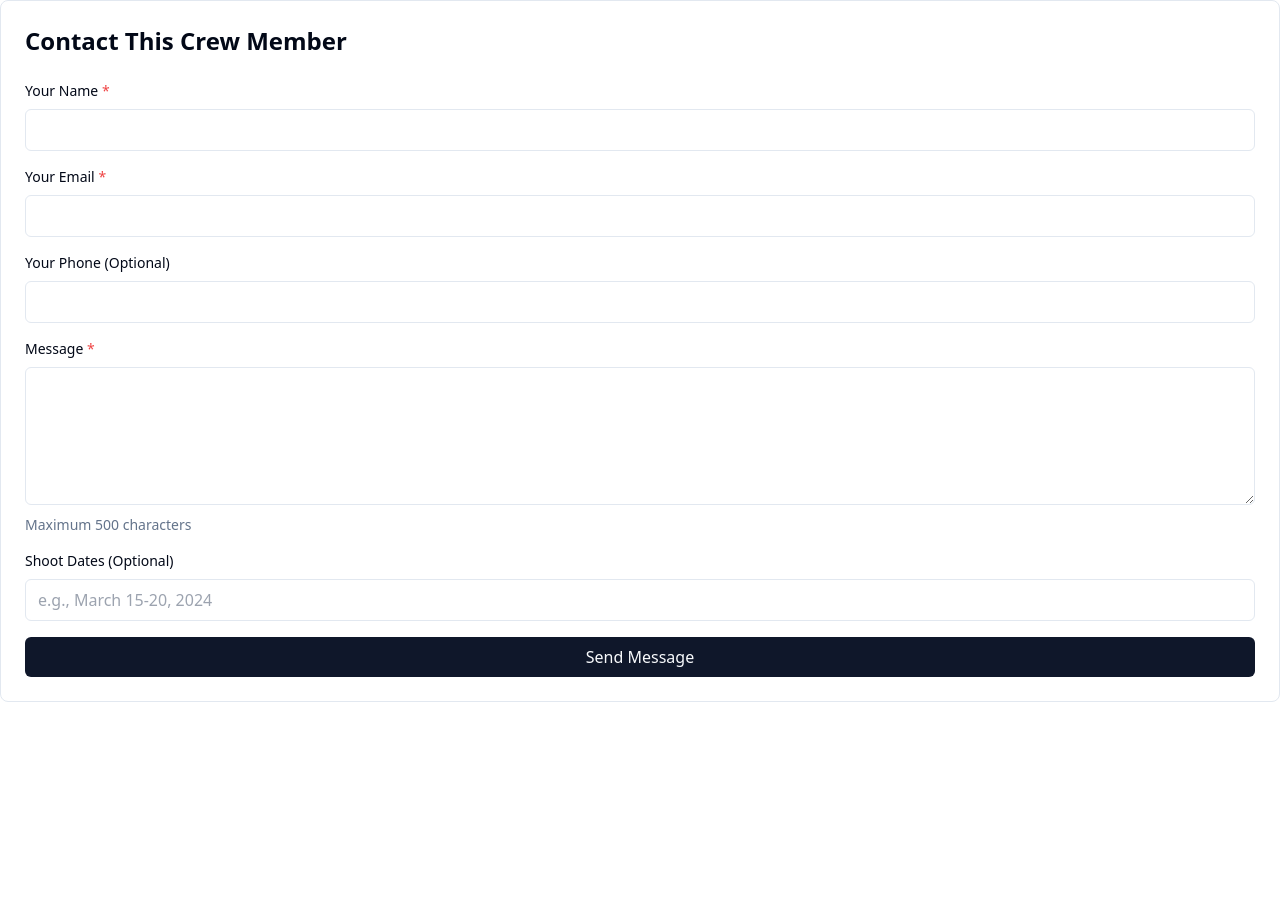
Scenario: ContactForm › should show validation errors for required fields
The width and height of the screenshot is (1280, 900).
Click the button "Send Message": coordinates (640, 657) [25,637,1255,677]
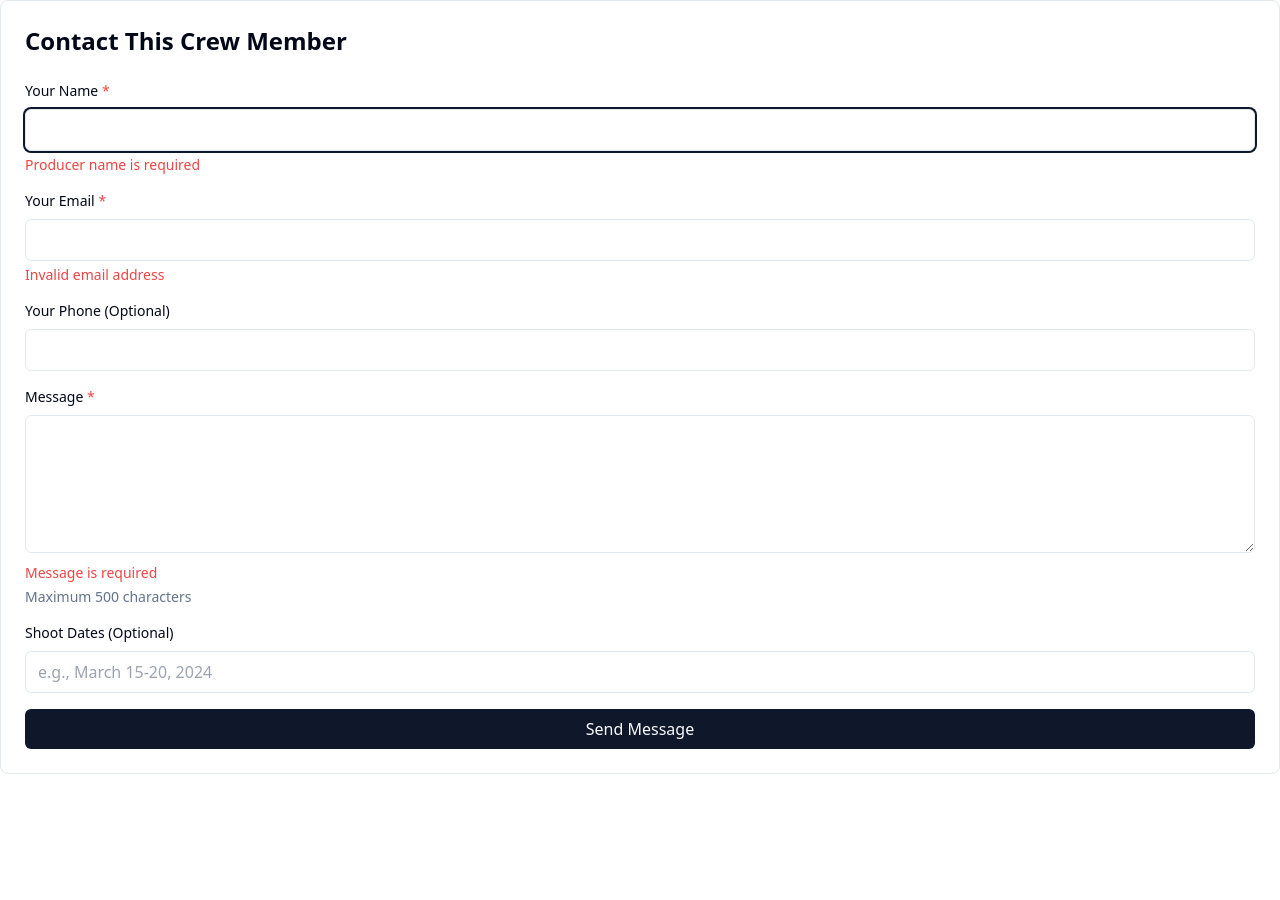
Expected: the text "Producer name is required" is shown, [25,155,200,174]
Expected: the text "Message is required" is shown, [25,563,157,582]
